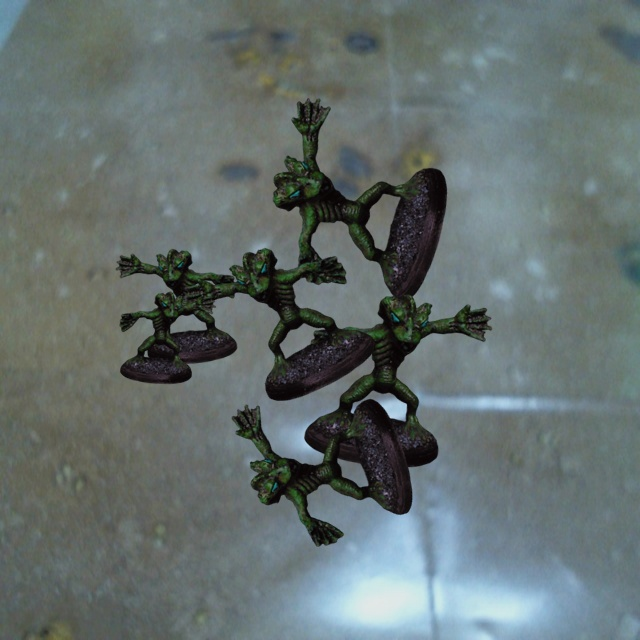pieza_juego: (273, 98, 446, 300), (304, 294, 491, 467), (183, 248, 375, 400), (232, 399, 412, 546), (116, 249, 236, 364), (119, 292, 215, 383)
